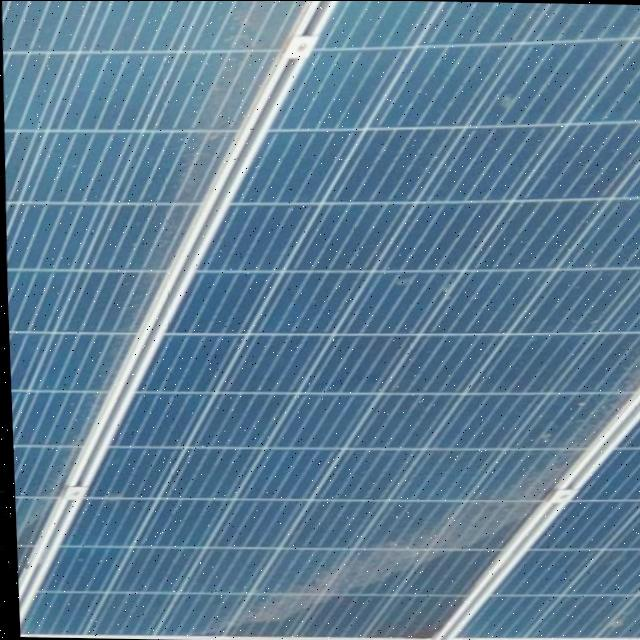Surface Contaminant: (3, 0, 313, 592), (198, 423, 592, 640), (588, 606, 637, 632)
